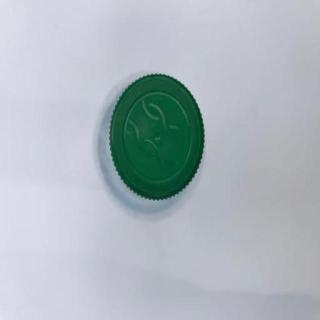Plastic-bottle: (104, 73, 206, 204)
